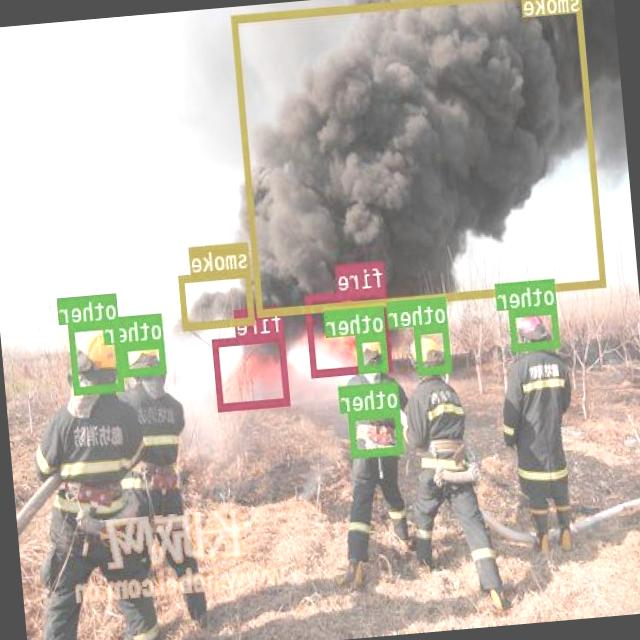fire: (305, 286, 393, 376), (212, 331, 290, 410)
smoke: (232, 0, 606, 315), (178, 268, 256, 330)
